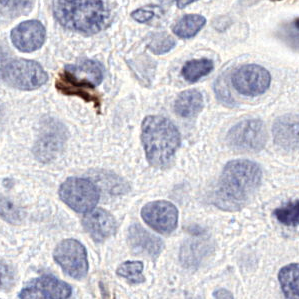Lymphocyte: (55, 66, 100, 108)
